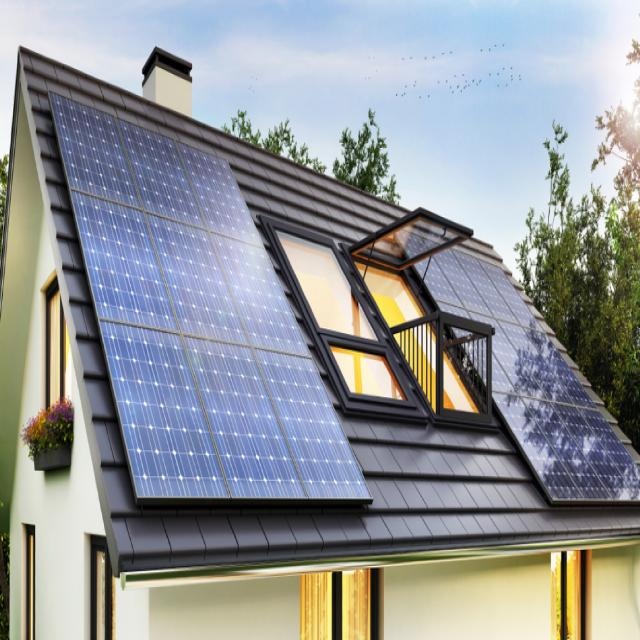clean-solar-panel: (50, 92, 370, 499)
